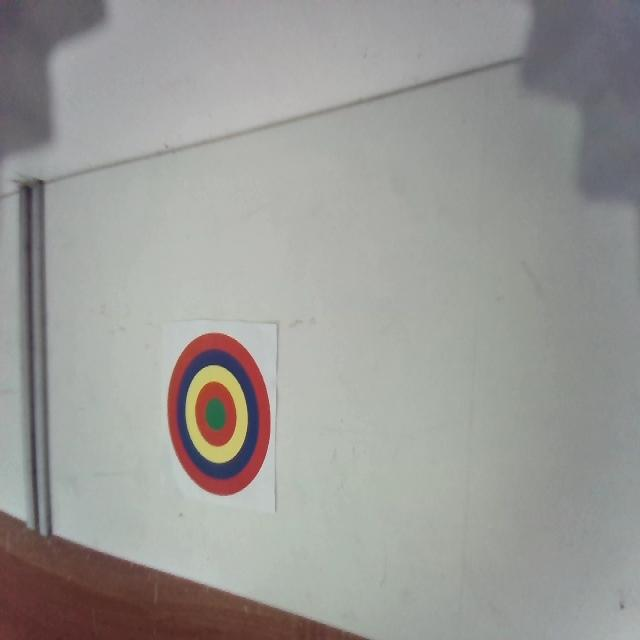cogn: (167, 332, 272, 498)
